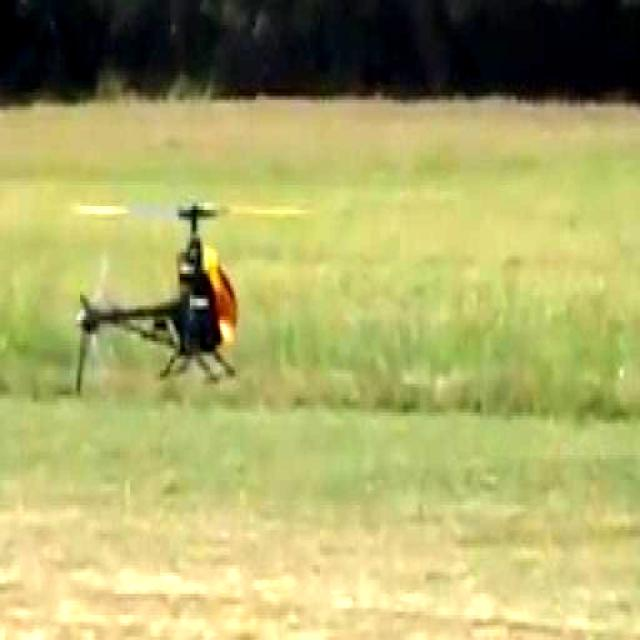drone: (59, 191, 315, 399)
